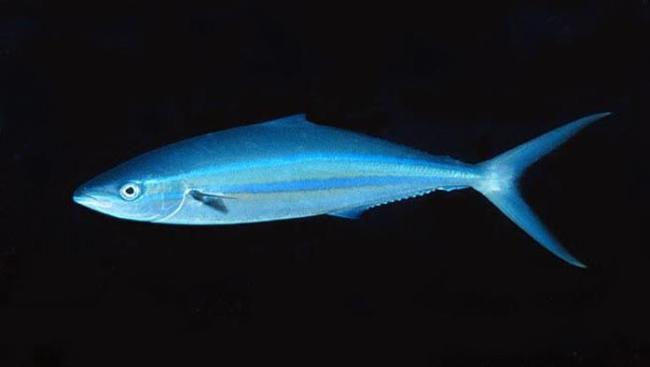fish: (72, 112, 611, 269)
